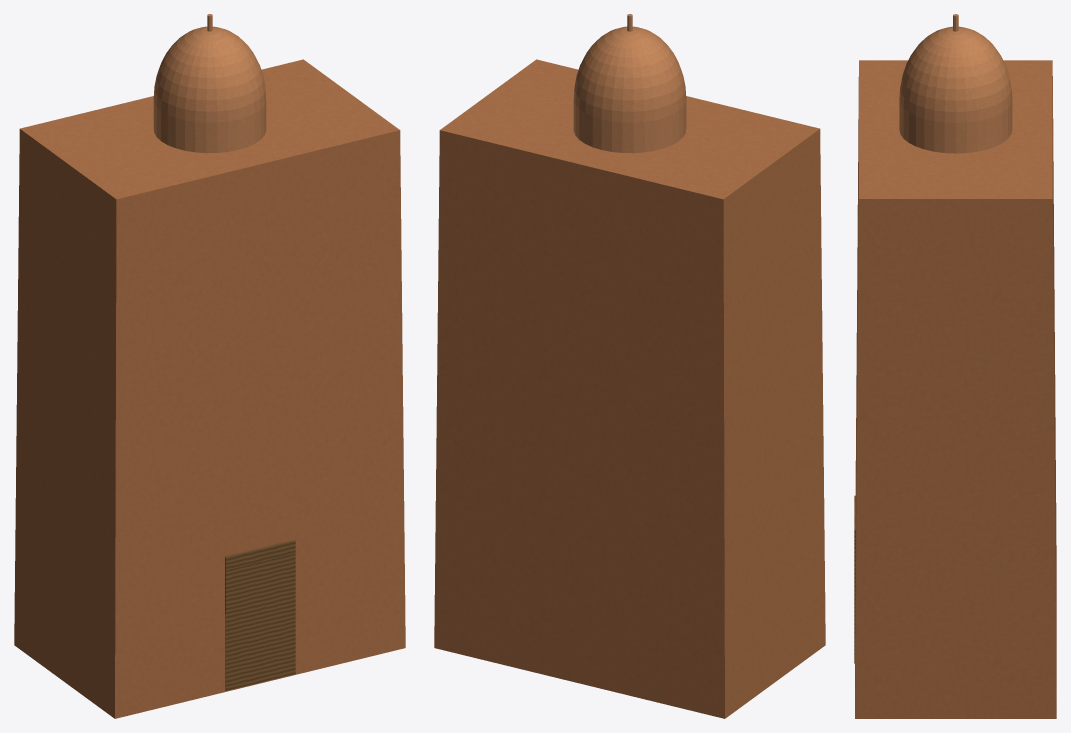
The model's file is SM_Souq_Warehouse_W5D30_Dome.fbx.
3 renders of one model, left to right at view 1: azimuth 30°, elevation 25°; view 2: azimuth 150°, elevation 25°; view 3: azimuth 270°, elevation 25°, orthographic.
Parts seen in each view (by area): view 1: SM_Souq_Warehouse_W5D30_Dome; view 2: SM_Souq_Warehouse_W5D30_Dome; view 3: SM_Souq_Warehouse_W5D30_Dome.
Part boxes in pixels (x1,y1,x2,y2): SM_Souq_Warehouse_W5D30_Dome: (14, 14, 405, 718); SM_Souq_Warehouse_W5D30_Dome: (434, 14, 825, 718); SM_Souq_Warehouse_W5D30_Dome: (854, 14, 1056, 718).
Bounding box in the file's own units: 5 × 10.38 × 3.01.
3 materials, 3 textured.
